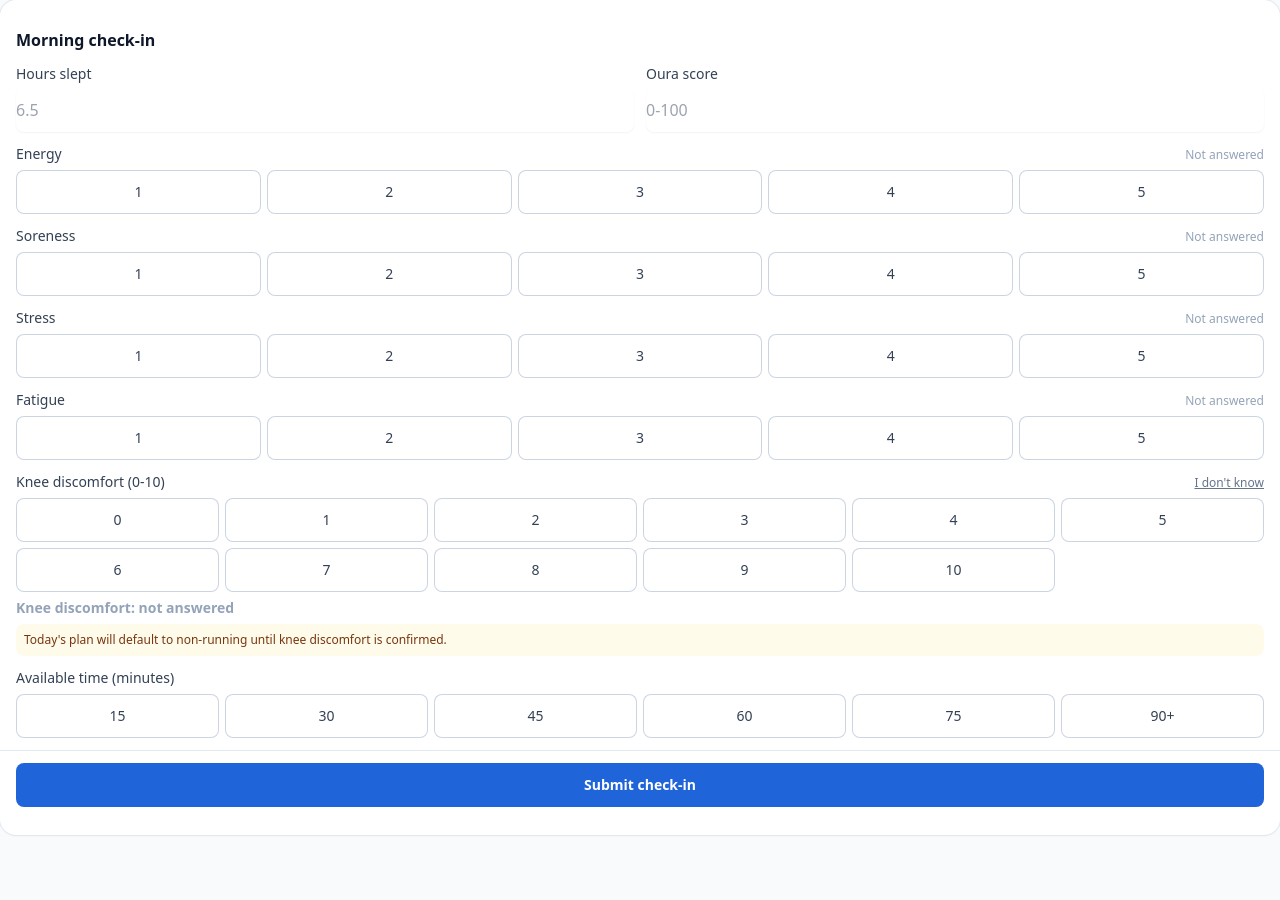
requirement 3: selecting a score displays the matching definition › Energy = 1 reads as Selected: 1, Depleted
Click the radio button labelled "1" below "Energy": click(138, 192) [16,170,261,214]
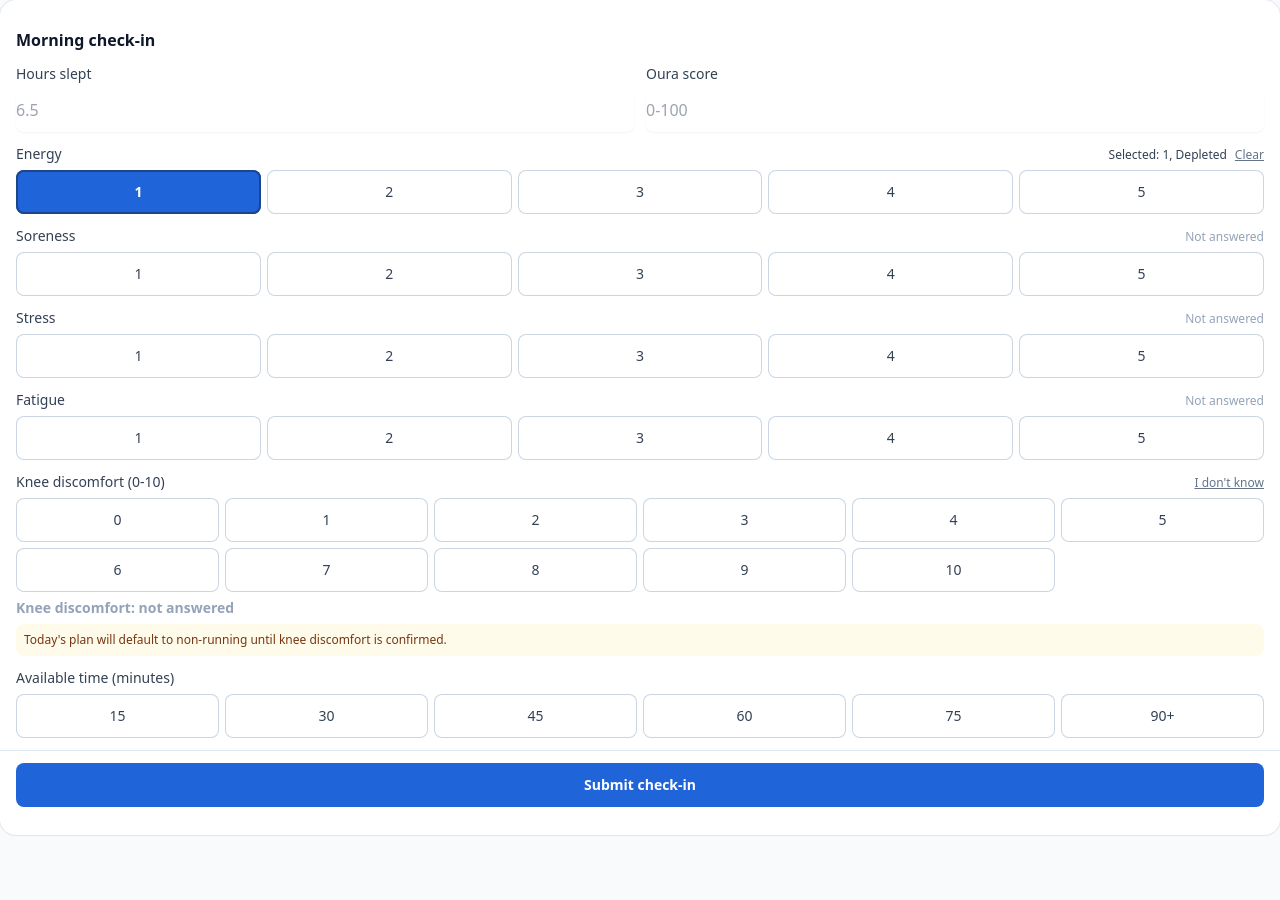
Result: the text "Selected: 1, Depleted" is shown at [1109,147,1227,163]
